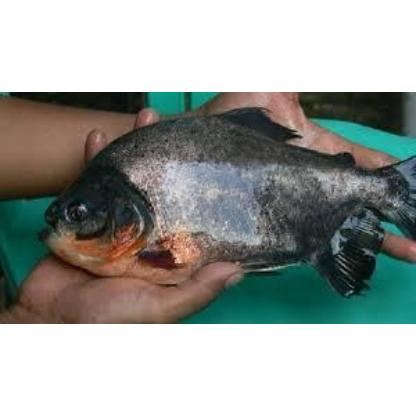ikan-pacu: (40, 112, 404, 282)
